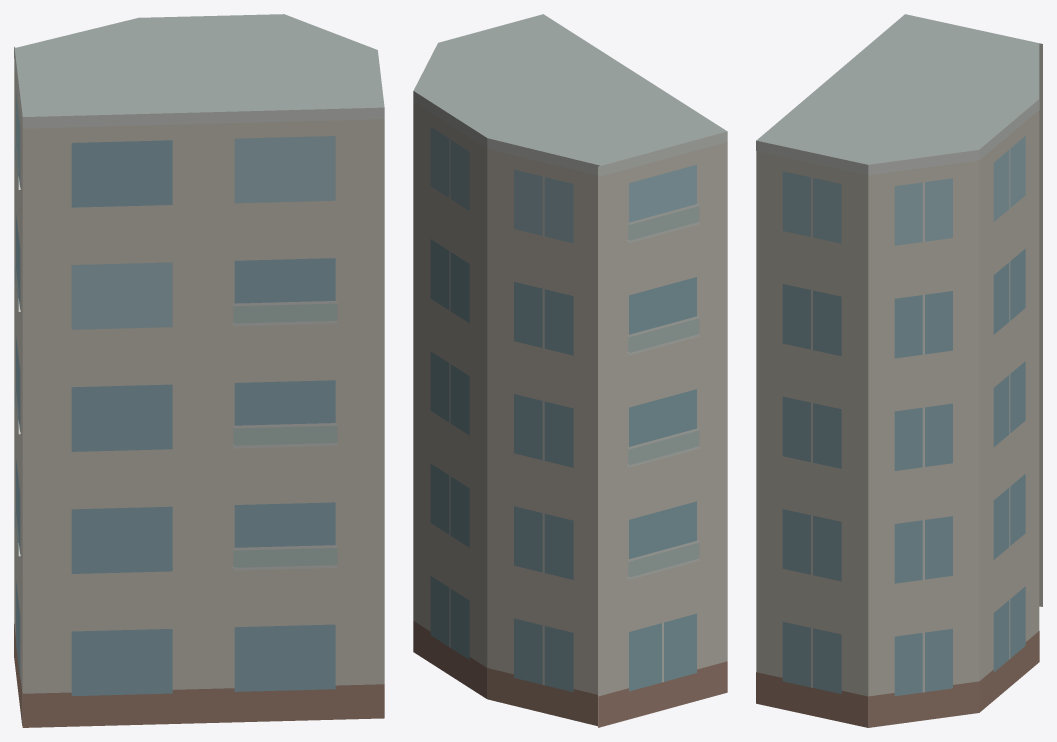
File: survey-upis-32912688.glb
The picture shows the model from 3 angles, left to right: view 1: azimuth 30°, elevation 25°; view 2: azimuth 150°, elevation 25°; view 3: azimuth 270°, elevation 25°; orthographic projection. The views are drawn at different scales.
Visible parts, largest first — view 1: survey-upis-32912688.tmp; view 2: survey-upis-32912688.tmp; view 3: survey-upis-32912688.tmp.
Part boxes in pixels (x1=…): survey-upis-32912688.tmp: x1=14, y1=14, x2=384, y2=727; survey-upis-32912688.tmp: x1=413, y1=14, x2=727, y2=727; survey-upis-32912688.tmp: x1=756, y1=14, x2=1042, y2=727.
Size of the model in its own units: 7.48 by 13 by 6.01.
